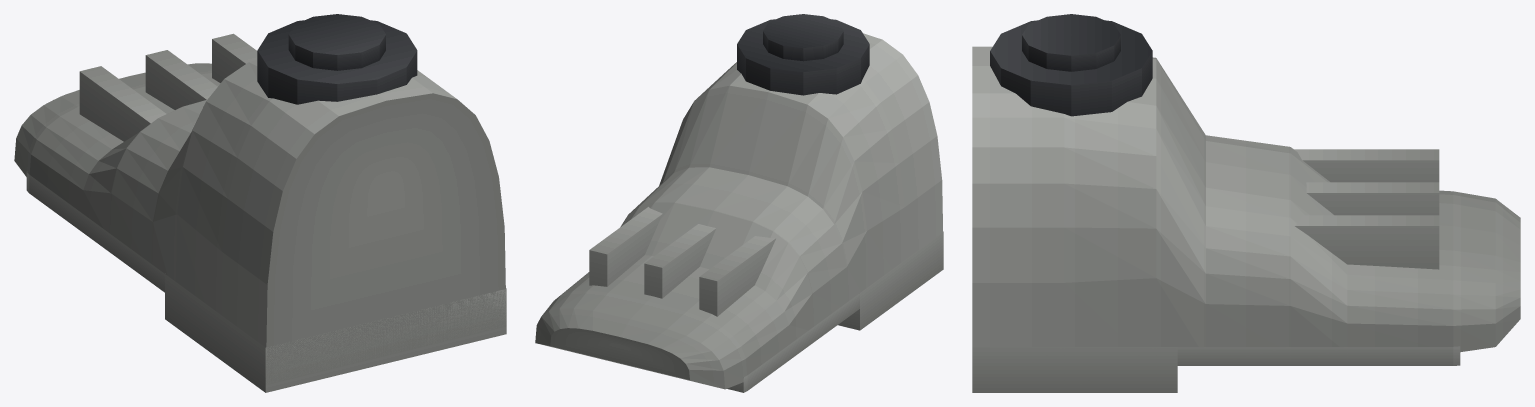
File: streetlight_ltgcjsn.obj
3 renders of one model, left to right at view 1: azimuth 30°, elevation 25°; view 2: azimuth 150°, elevation 25°; view 3: azimuth 270°, elevation 25°, orthographic. The views are drawn at different scales.
Visible parts, largest first — view 1: fixture; view 2: fixture; view 3: fixture.
Boxes of the visible parts, x1,y1,x2,y2 form: fixture: [14, 14, 506, 392]; fixture: [535, 14, 943, 392]; fixture: [972, 14, 1520, 392].
Bounding box in the file's own units: 0.25 × 0.2909 × 0.4844.
